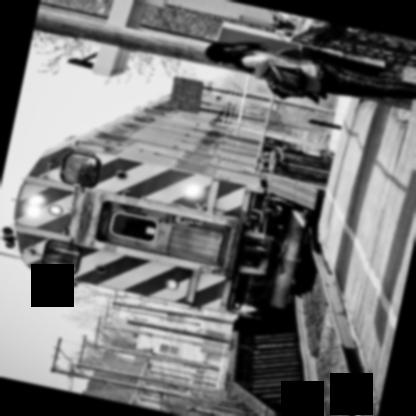handbag: (270, 63, 311, 95)
